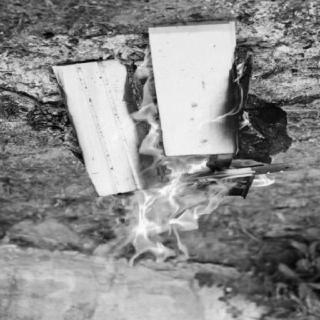Fire: (25, 48, 282, 314)
